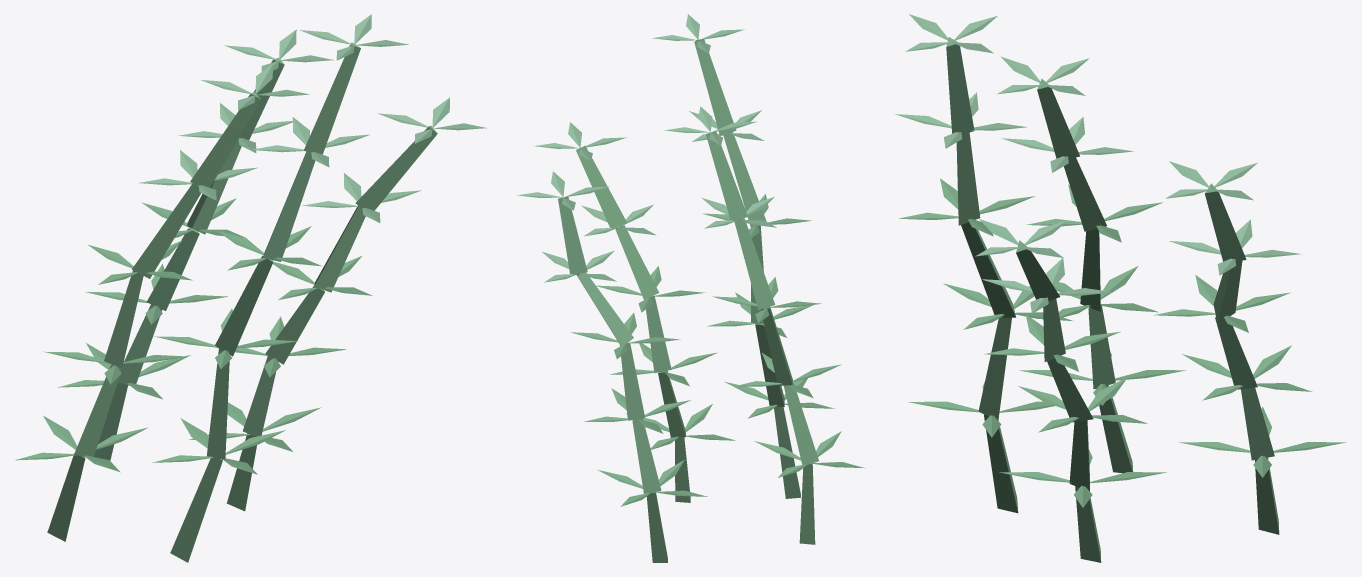
File: shui.huwei__bloom.glb
The picture shows the model from 3 angles, left to right: view 1: azimuth 30°, elevation 25°; view 2: azimuth 150°, elevation 25°; view 3: azimuth 270°, elevation 25°; orthographic projection. The views are drawn at different scales.
Parts seen in each view (by area): view 1: shui.huwei__bloom; view 2: shui.huwei__bloom; view 3: shui.huwei__bloom.
Boxes of the visible parts, x1=… form: shui.huwei__bloom: x1=15, y1=14, x2=486, y2=562; shui.huwei__bloom: x1=517, y1=14, x2=864, y2=562; shui.huwei__bloom: x1=895, y1=14, x2=1346, y2=562.
Size of the model in its own units: 0.7743 by 0.896 by 0.6663.
